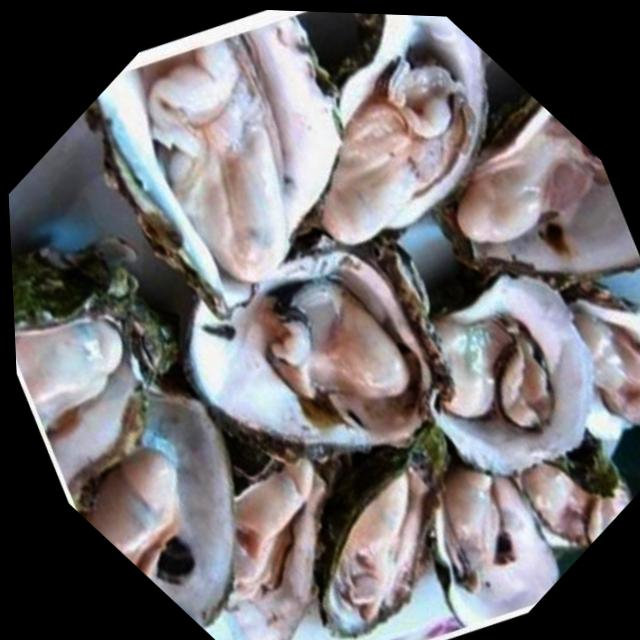Oyster-Open: (128, 153, 519, 542), (36, 1, 424, 336), (220, 8, 550, 287), (355, 223, 640, 518), (8, 178, 244, 517), (43, 358, 325, 636), (401, 82, 640, 360), (143, 424, 398, 640), (257, 421, 496, 640), (369, 436, 593, 640), (500, 237, 640, 452), (490, 408, 640, 570)
